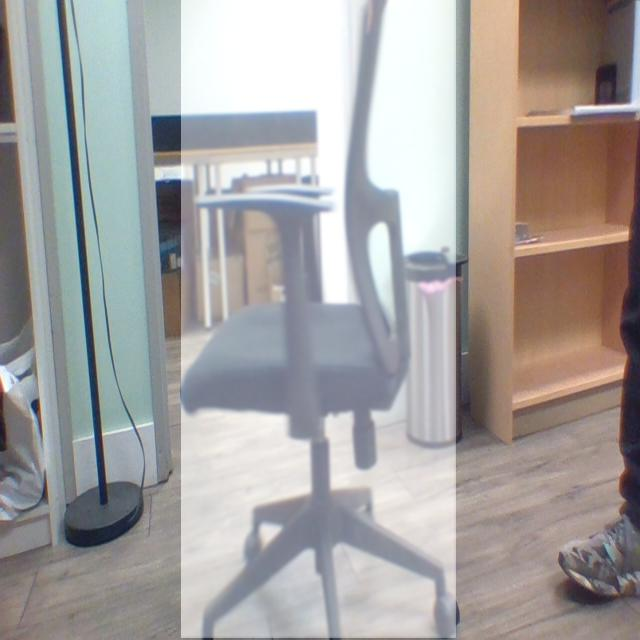black-chair: (181, 0, 457, 639)
